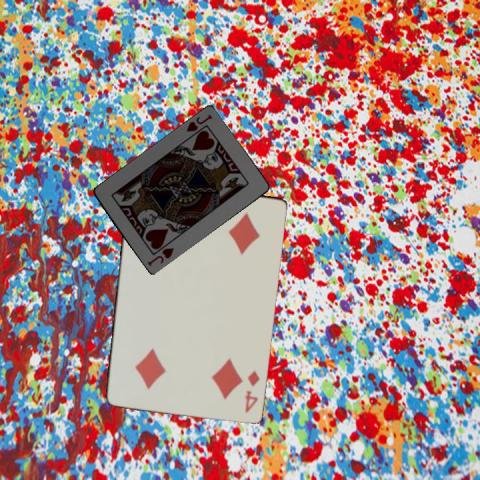4d: (241, 367, 261, 414)
Jh: (144, 245, 175, 268), (184, 112, 214, 133)
